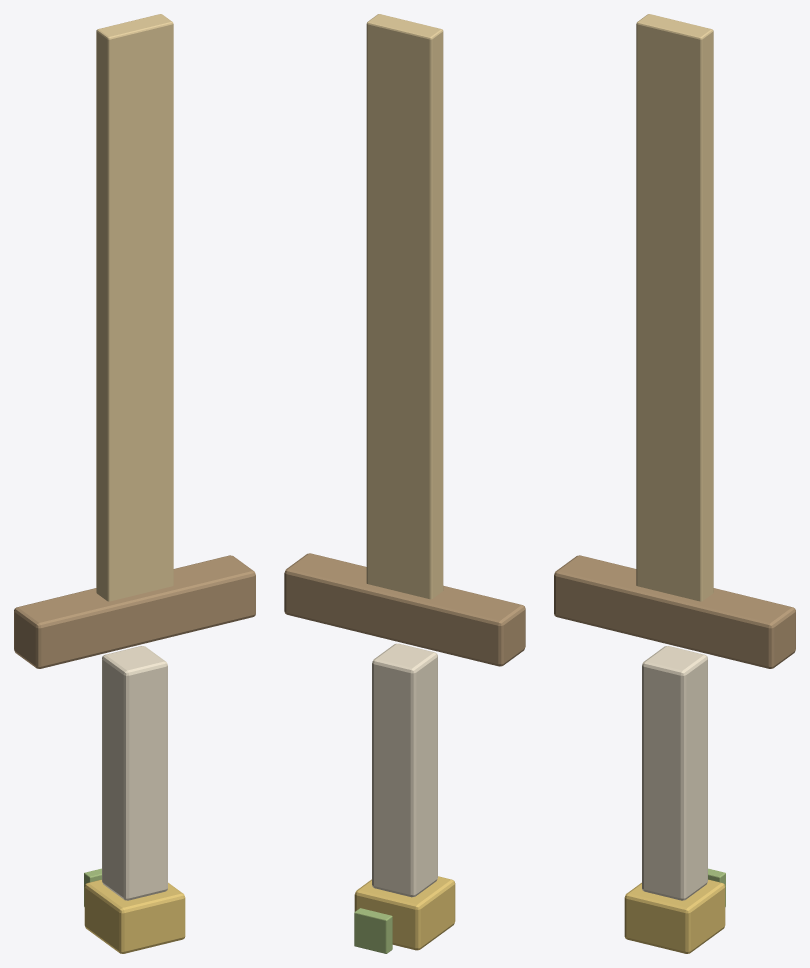
File: weapon_brindle_sword.glb
3 views of the same model, side by side, from view 1: azimuth 30°, elevation 25°; view 2: azimuth 150°, elevation 25°; view 3: azimuth 330°, elevation 25° (orthographic).
Visible parts, largest first — view 1: Blade, Grip, Crossguard, Pommel; view 2: Blade, Grip, Crossguard, Pommel, Leaf_sigil; view 3: Blade, Grip, Crossguard, Pommel.
Boxes of the visible parts, x1,y1,x2,y2 form: Blade: (96, 14, 173, 601); Grip: (102, 646, 167, 900); Crossguard: (14, 555, 255, 668); Pommel: (84, 879, 185, 953); Blade: (366, 14, 443, 599); Grip: (372, 643, 437, 897); Crossguard: (284, 553, 525, 666); Pommel: (354, 876, 455, 950); Leaf_sigil: (354, 908, 392, 953); Blade: (636, 14, 713, 601); Grip: (642, 646, 707, 900); Crossguard: (554, 555, 795, 668); Pommel: (624, 879, 725, 953).
Size of the model in its own units: 0.2 by 0.79 by 0.085.
